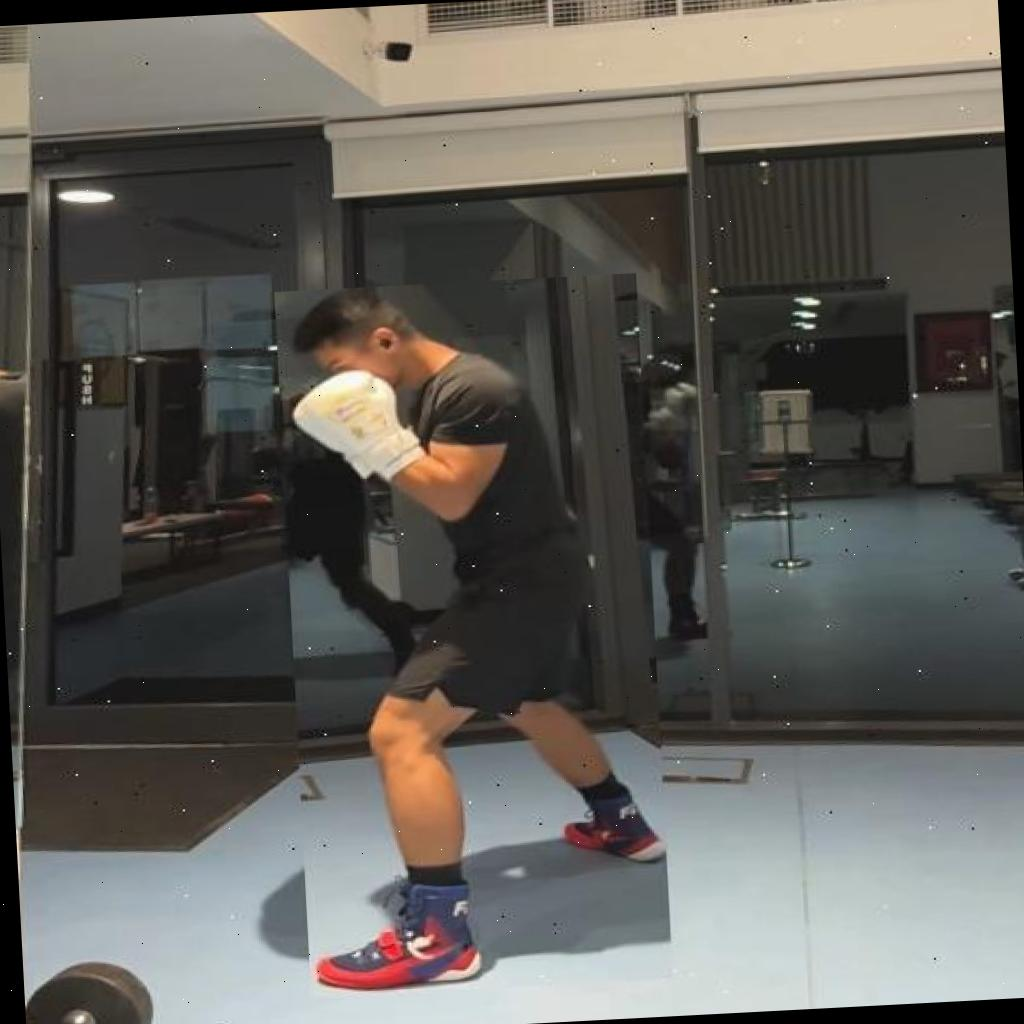no punch: (275, 273, 673, 996)
